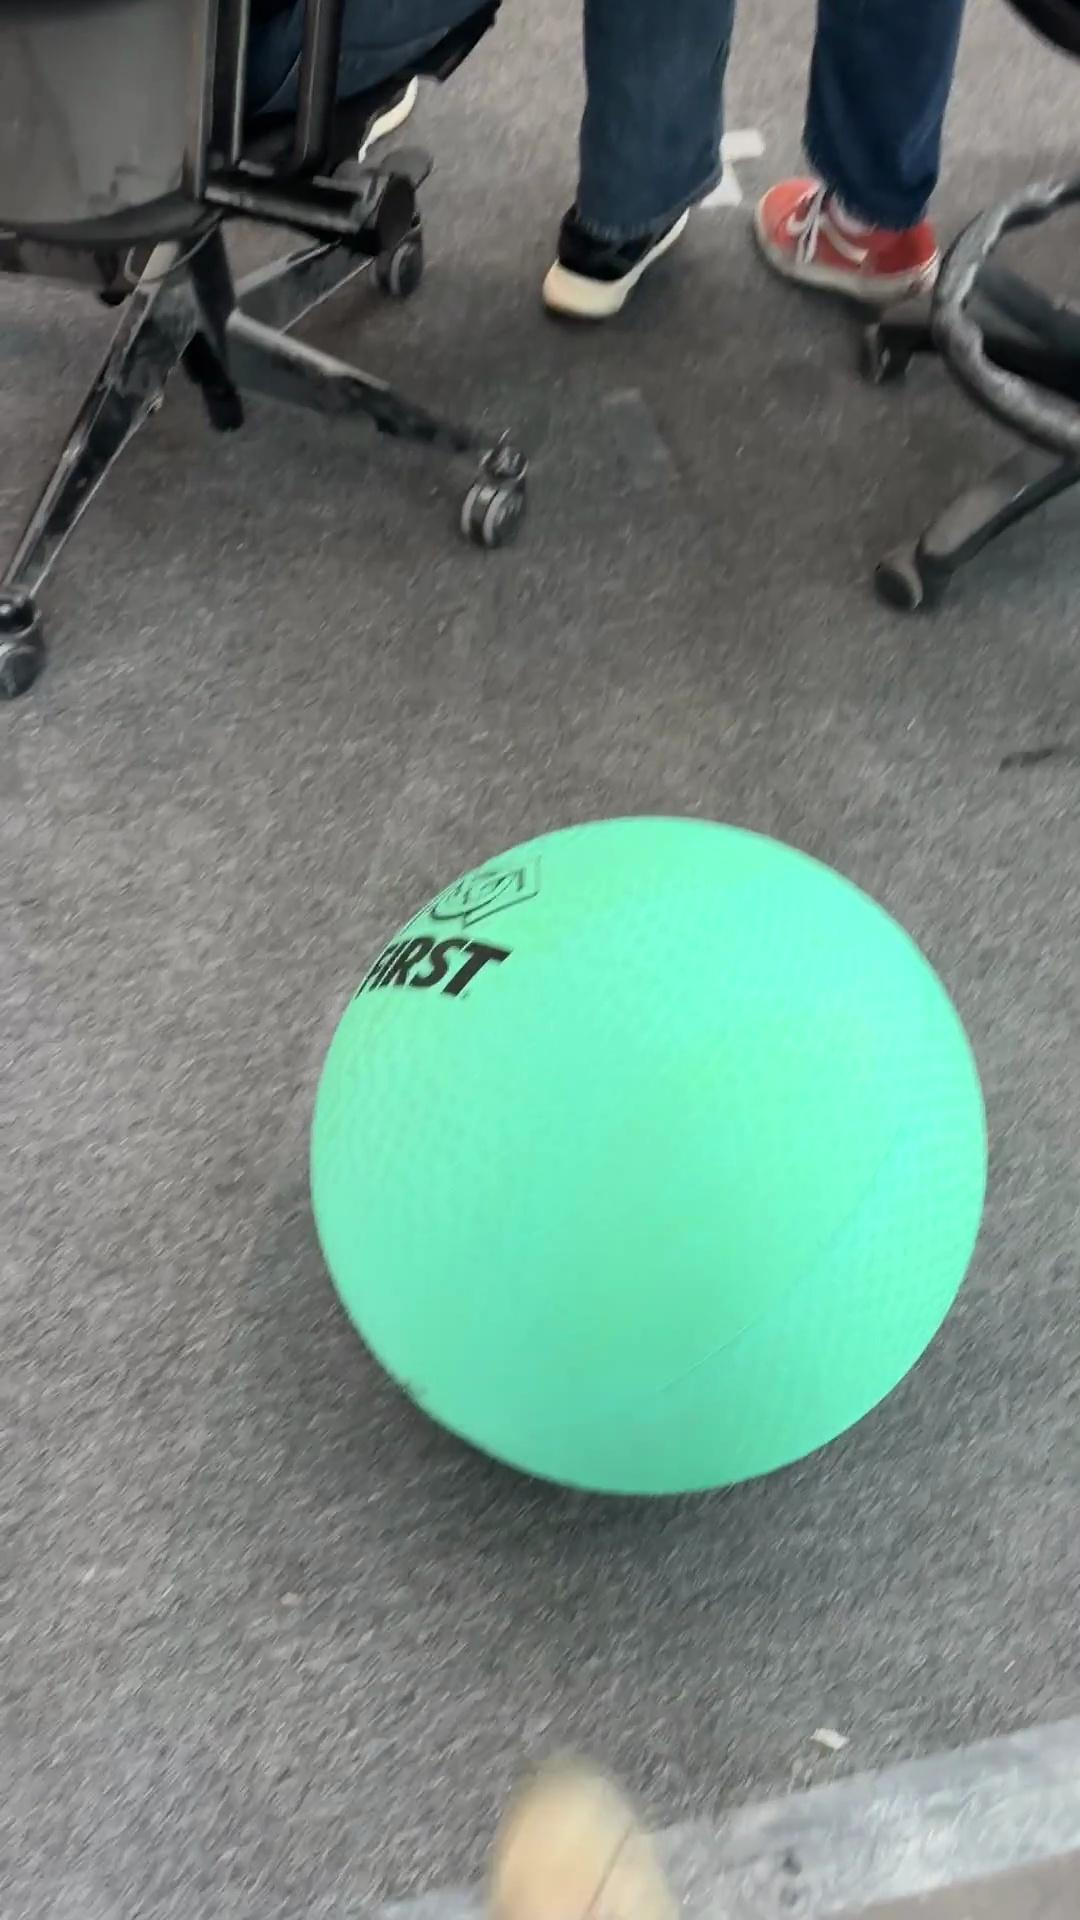ALGAE: (305, 810, 990, 1499)
